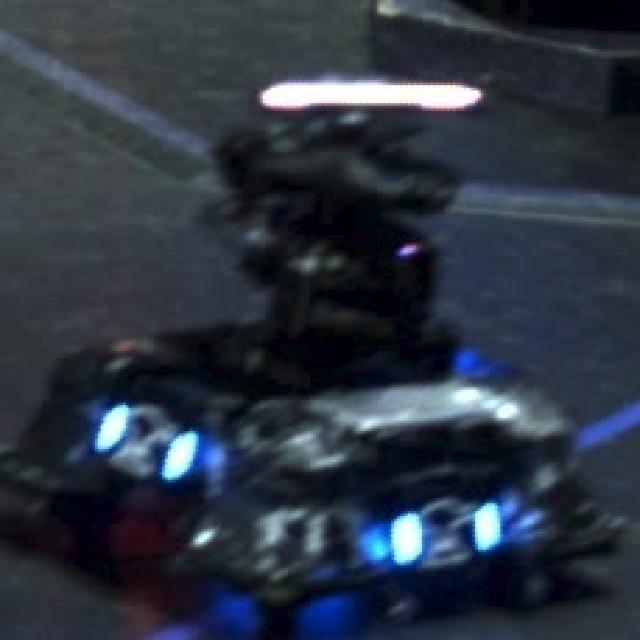Bs: (92, 405, 193, 483), (391, 498, 503, 563)
